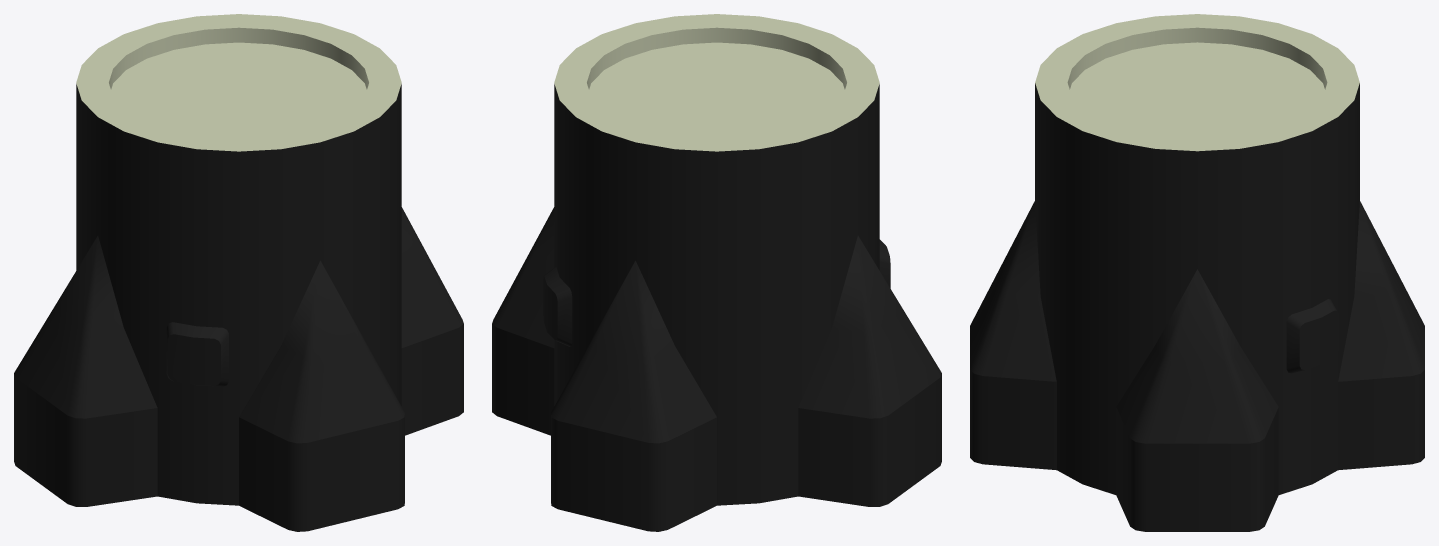
The model's file is tantares_lv_engine_s1_1.obj.
The picture shows the model from 3 angles, left to right: view 1: azimuth 30°, elevation 25°; view 2: azimuth 150°, elevation 25°; view 3: azimuth 270°, elevation 25°; orthographic projection.
Parts seen in each view (by area): view 1: tantares_lv_engine_s1_1_tantares_lv_engine_s1_1_auv, tantares_lv_engine_s1_1_default2; view 2: tantares_lv_engine_s1_1_tantares_lv_engine_s1_1_auv, tantares_lv_engine_s1_1_default2; view 3: tantares_lv_engine_s1_1_tantares_lv_engine_s1_1_auv, tantares_lv_engine_s1_1_default2.
Boxes of the visible parts, <box> form: tantares_lv_engine_s1_1_tantares_lv_engine_s1_1_auv: <box>14,84,463,531</box>; tantares_lv_engine_s1_1_default2: <box>76,14,401,151</box>; tantares_lv_engine_s1_1_tantares_lv_engine_s1_1_auv: <box>492,84,941,531</box>; tantares_lv_engine_s1_1_default2: <box>554,14,879,151</box>; tantares_lv_engine_s1_1_tantares_lv_engine_s1_1_auv: <box>970,83,1424,531</box>; tantares_lv_engine_s1_1_default2: <box>1035,14,1359,151</box>.
Size of the model in its own units: 1.75 by 1.5 by 1.75.
